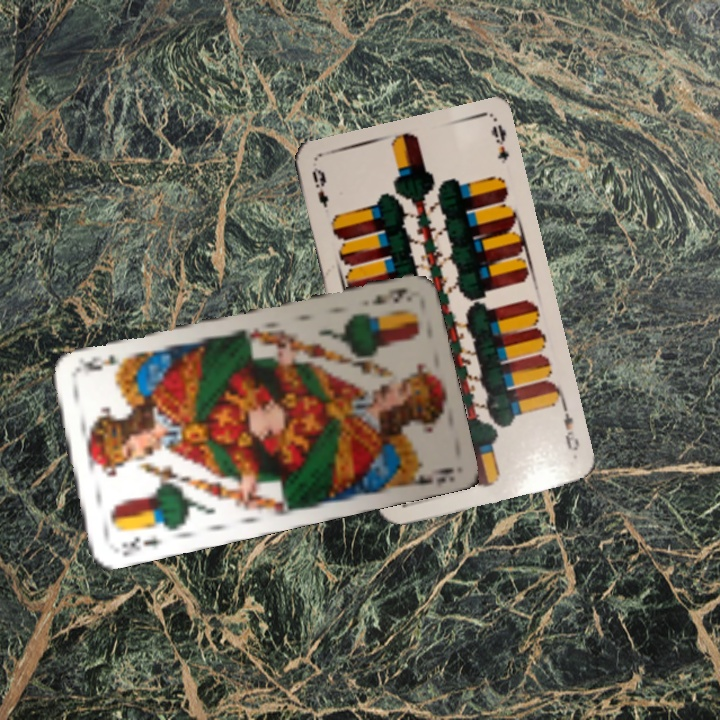E9: (559, 401, 582, 454), (308, 163, 331, 211)
EK: (117, 532, 163, 559), (367, 283, 411, 307)
